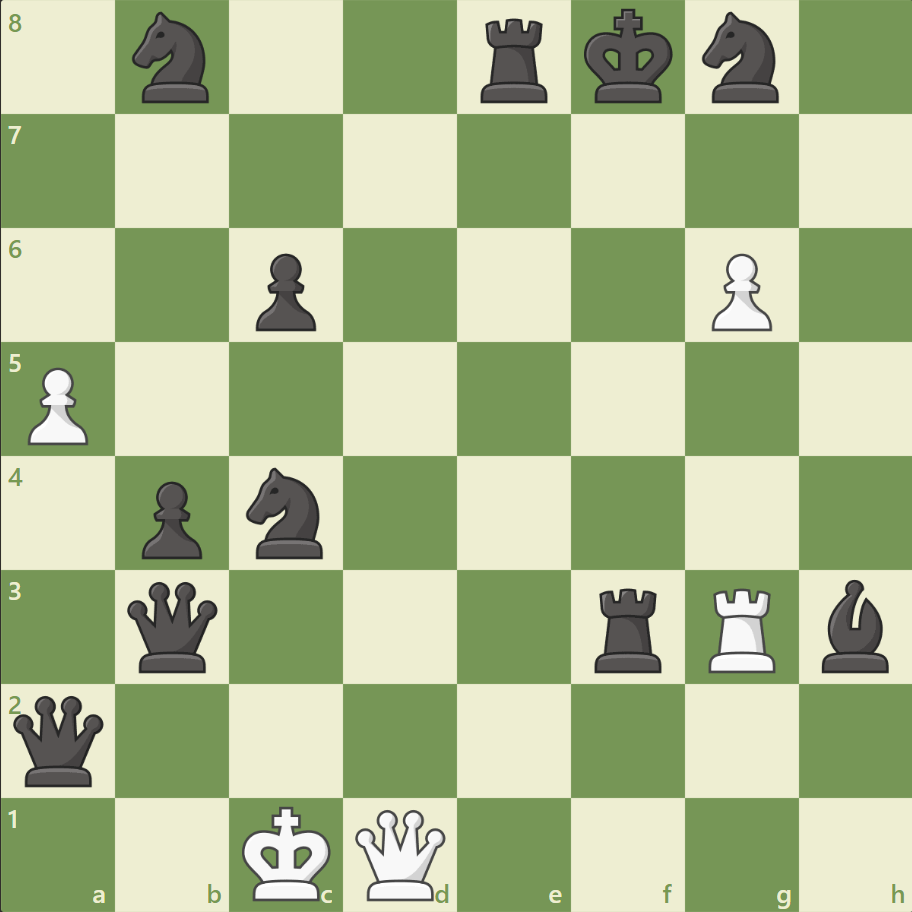K: (238, 798, 338, 906)
P: (701, 246, 776, 337), (20, 359, 95, 450)
Q: (351, 804, 450, 903)
R: (700, 579, 783, 676)
b: (812, 574, 896, 676)
k: (579, 4, 679, 112)
n: (124, 7, 222, 110), (692, 7, 789, 110), (238, 461, 335, 564)
p: (247, 246, 322, 337), (133, 473, 208, 564)
q: (124, 576, 223, 676), (10, 690, 109, 789)
r: (473, 12, 556, 109), (587, 579, 670, 676)
